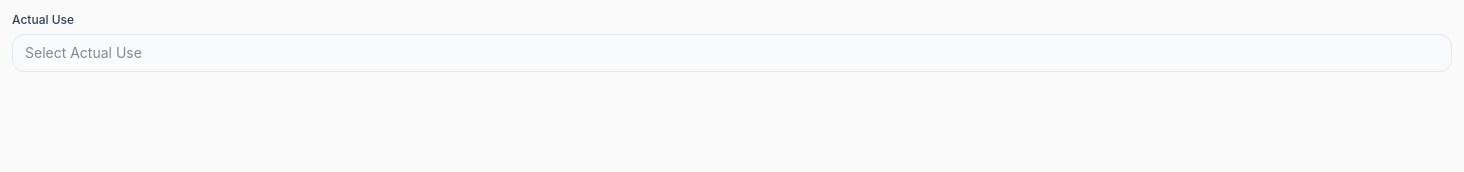
ActualUseSelect › handles invalid input and search filtering
The width and height of the screenshot is (1464, 172).
Later steps or results of the test are not shown.
In the field with test id "actual-use-input": (732, 53) [12,34,1452,72], type "RESI"
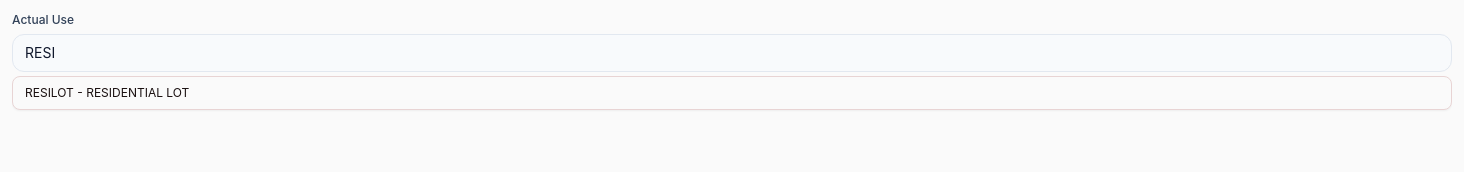
Result: the option with test id "actual-use-option-RESILOT" is shown at [13,77,1451,109]
Result: the option with test id "actual-use-option-COMLOT" is gone
